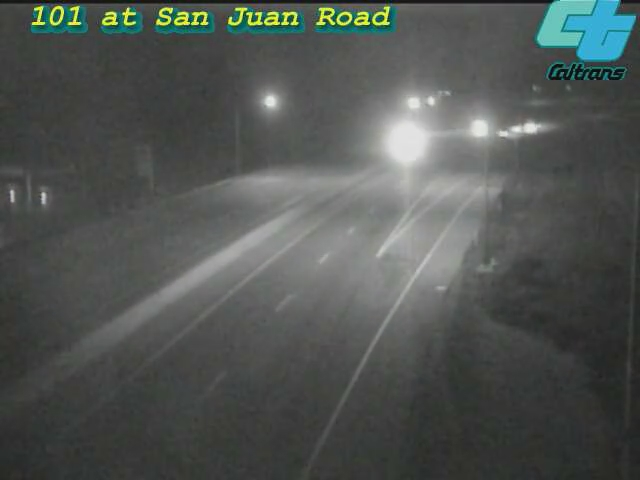vehicle: (377, 121, 427, 171), (453, 103, 503, 153), (509, 100, 559, 150), (491, 103, 541, 153), (478, 108, 528, 158)
